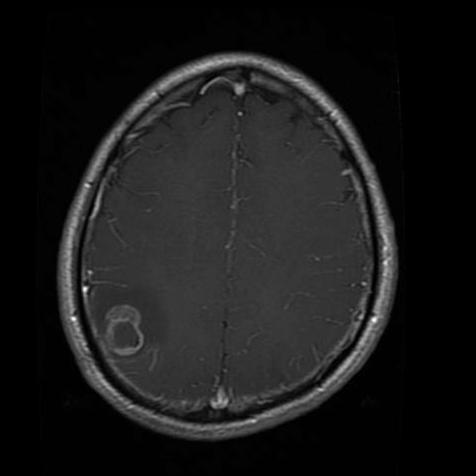Tumour-Glioma: (91, 304, 157, 369)
